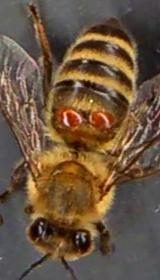varroa_mite: (84, 102, 116, 134), (54, 104, 88, 128)
